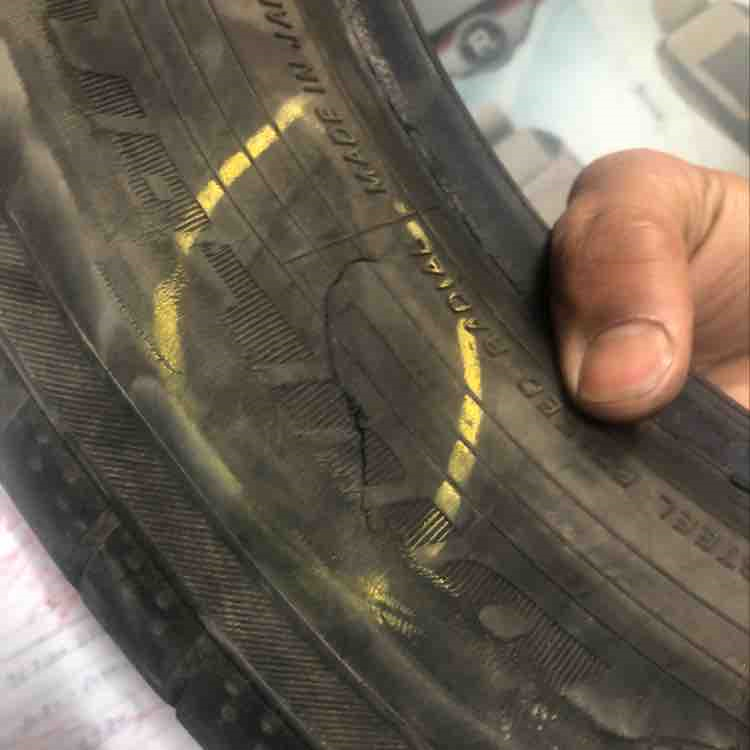cut: (321, 251, 390, 544)
